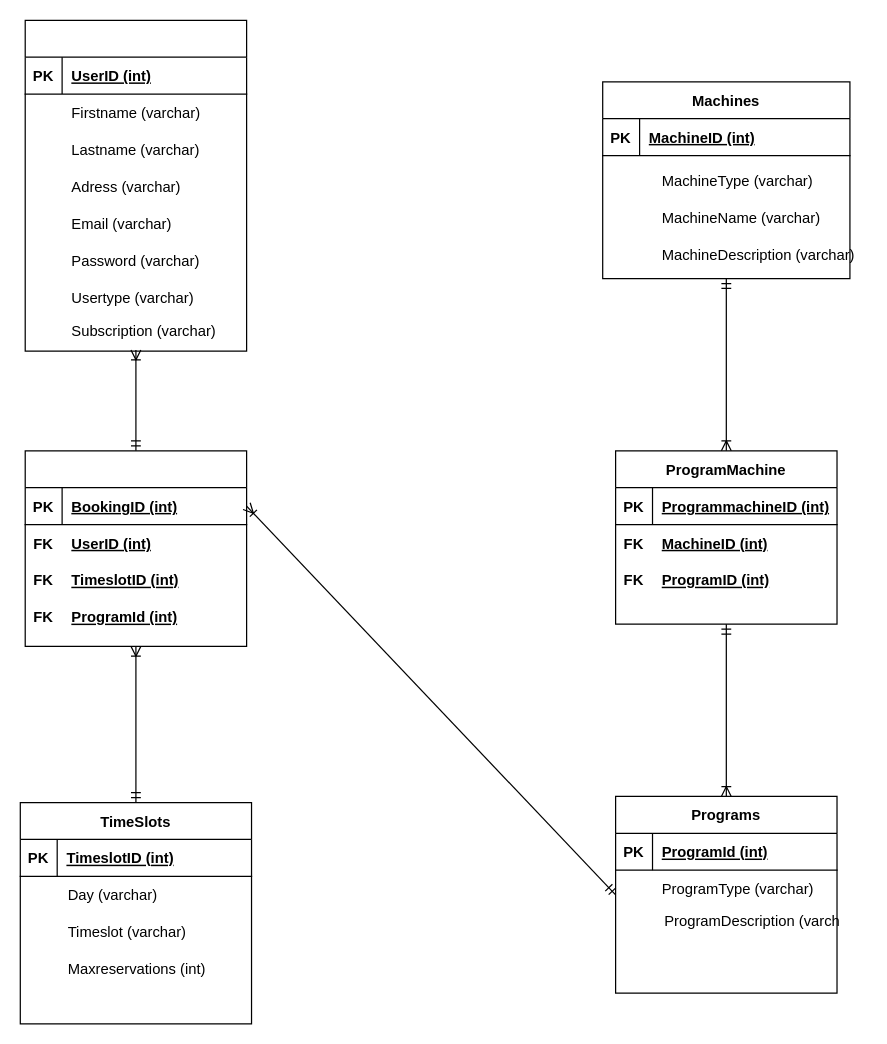
This 887x1044 diagram has some shape labels left out. The box of each missing label's shape, as (x1, y1, x2, y2) in pixels:
Reservations: (24, 450, 247, 646)
Users: (24, 19, 247, 351)
